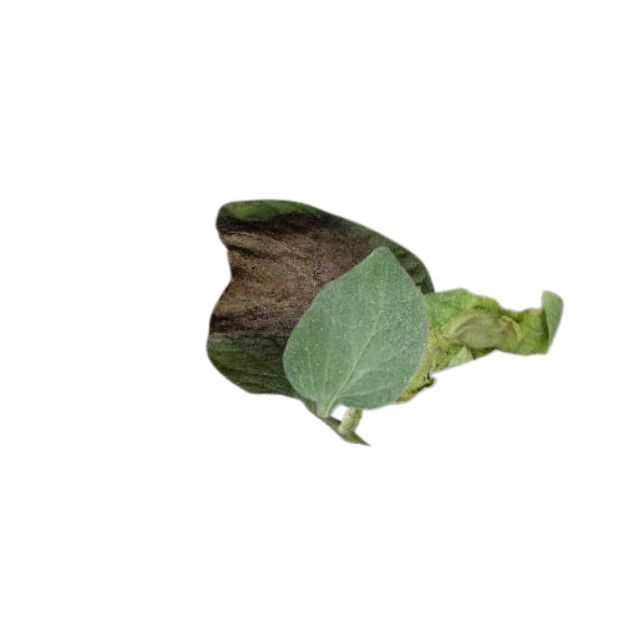Late_blight: (204, 212, 371, 345), (396, 292, 563, 405)
